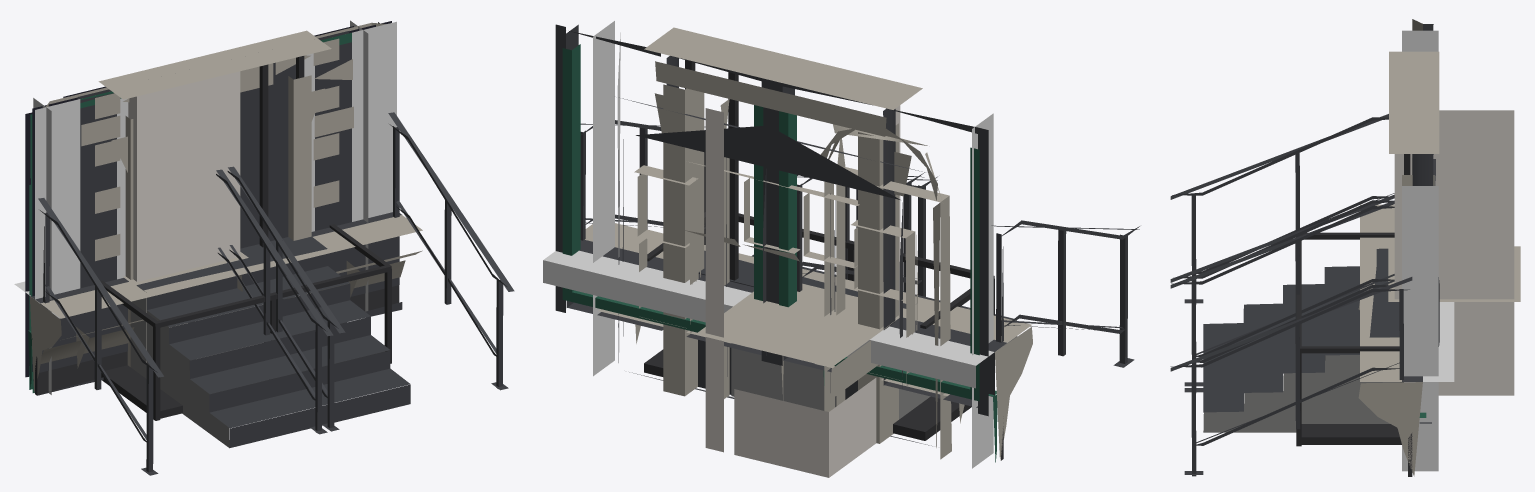
File: bays.glb
3 renders of one model, left to right at view 1: azimuth 30°, elevation 25°; view 2: azimuth 150°, elevation 25°; view 3: azimuth 270°, elevation 25°, orthographic. The views are drawn at different scales.
Visible parts, largest first — view 1: stoop, post, winD, shopW, doorB, corniceT, fireEscape, winB, corniceM, shopA, blank, shopB (+2 smaller); view 2: doorB, postCap, shopA, shopB, corniceB, stoop, doorA, post, winC, fireEscape, corniceT, winE (+5 smaller); view 3: stoop, post, doorB, corniceT, fireEscape, corniceB, postCap, shopA.
Part boxes in pixels (bbox=[...]): stoop: bbox=[38, 112, 514, 475]; post: bbox=[128, 71, 240, 362]; winD: bbox=[35, 21, 396, 318]; shopW: bbox=[35, 42, 351, 395]; doorB: bbox=[33, 20, 368, 394]; corniceT: bbox=[29, 215, 422, 392]; fireEscape: bbox=[100, 56, 391, 420]; winB: bbox=[81, 38, 353, 261]; corniceM: bbox=[30, 212, 402, 392]; shopA: bbox=[32, 21, 399, 395]; blank: bbox=[117, 53, 314, 279]; shopB: bbox=[25, 32, 351, 392]; doorB: bbox=[593, 21, 993, 468]; postCap: bbox=[696, 283, 906, 477]; shopA: bbox=[555, 24, 988, 416]; shopB: bbox=[562, 44, 995, 401]; corniceB: bbox=[543, 250, 994, 388]; stoop: bbox=[580, 120, 1139, 419]; doorA: bbox=[572, 44, 997, 462]; post: bbox=[705, 105, 900, 452]; winC: bbox=[636, 125, 902, 388]; fireEscape: bbox=[644, 60, 994, 440]; corniceT: bbox=[585, 223, 1032, 460]; winE: bbox=[634, 165, 917, 385]; stoop: bbox=[1170, 114, 1412, 476]; post: bbox=[1394, 110, 1514, 395]; doorB: bbox=[1389, 30, 1439, 471]; corniceT: bbox=[1358, 204, 1422, 476]; fireEscape: bbox=[1296, 154, 1410, 446]; corniceB: bbox=[1423, 302, 1454, 381]; postCap: bbox=[1388, 246, 1520, 301]; shopA: bbox=[1412, 24, 1433, 423].
Size of the model in its own units: 4 by 3.01 by 3.34.
